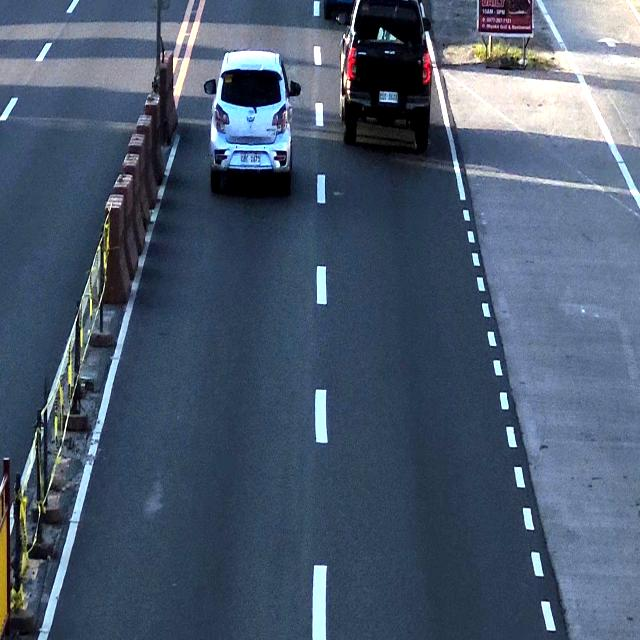Car: (336, 0, 434, 148), (208, 42, 293, 190)
License-Plate: (240, 152, 264, 168), (378, 91, 402, 105)
